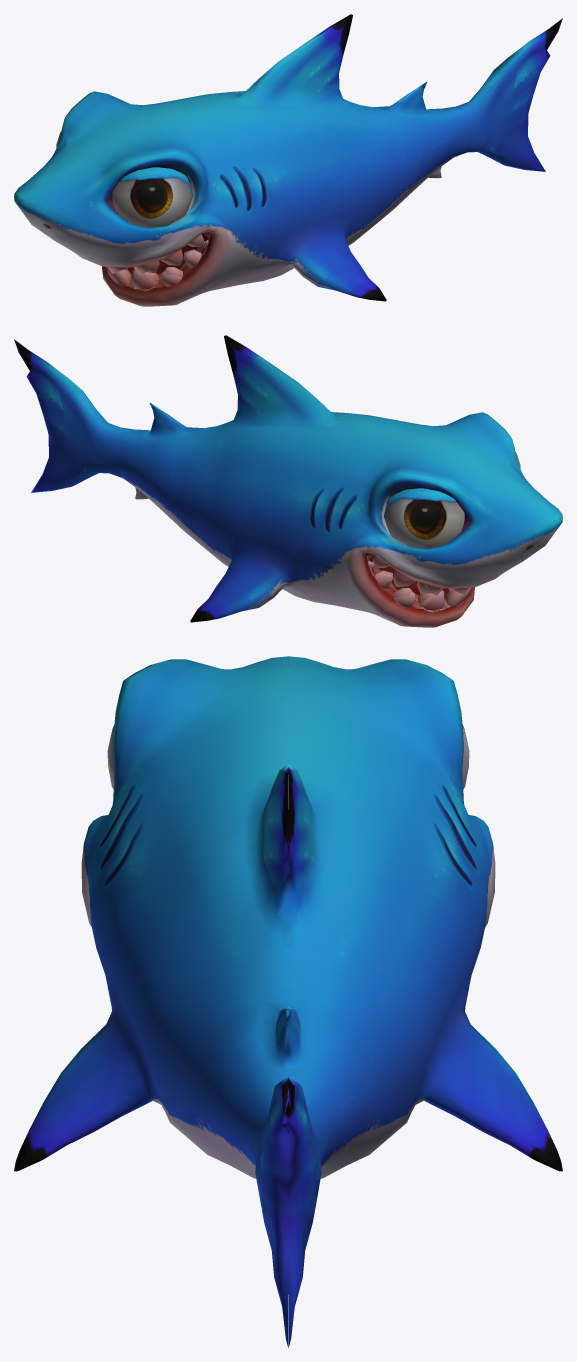
The model's file is shark.glb.
The picture shows the model from 3 angles, top to bottom: view 1: azimuth 30°, elevation 25°; view 2: azimuth 150°, elevation 25°; view 3: azimuth 270°, elevation 25°; orthographic projection. The views are drawn at different scales.
Visible parts, largest first — view 1: Shark_low; view 2: Shark_low; view 3: Shark_low.
Boxes of the visible parts, bbox=[...] form: Shark_low: bbox=[14, 14, 562, 306]; Shark_low: bbox=[14, 335, 562, 627]; Shark_low: bbox=[14, 656, 562, 1347].
Size of the model in its own units: 0.9992 by 0.4241 by 0.4565.
3 materials, 3 textured.
